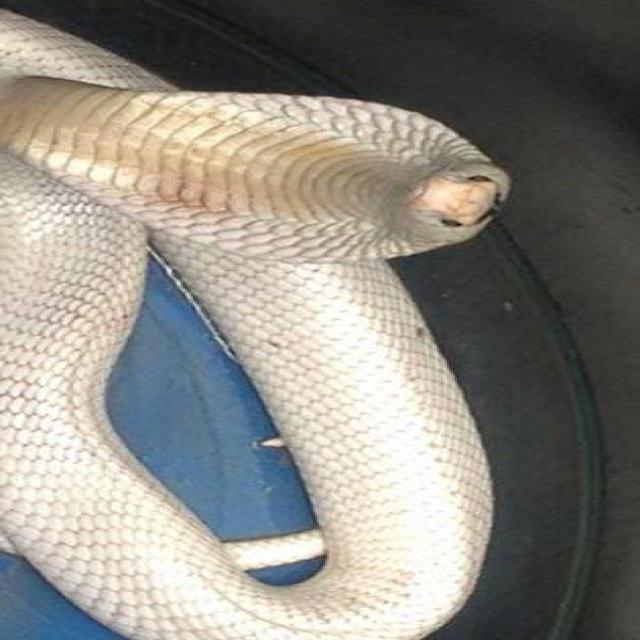Venomous: (100, 73, 523, 274)
